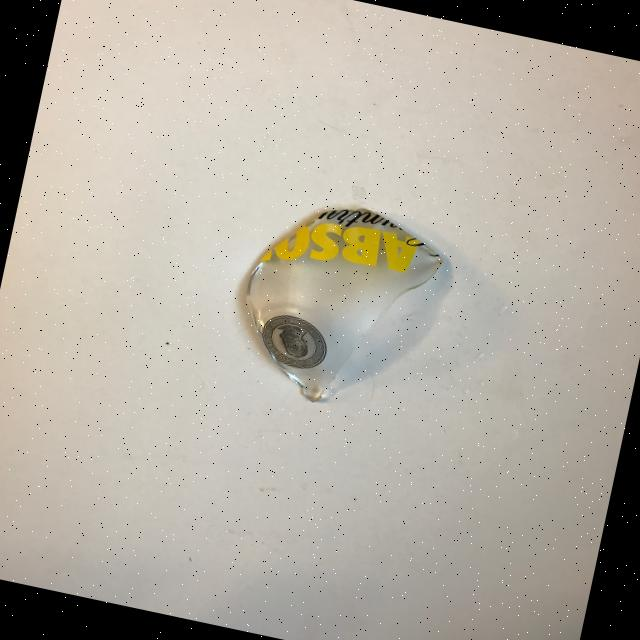glass: (224, 188, 452, 422)
